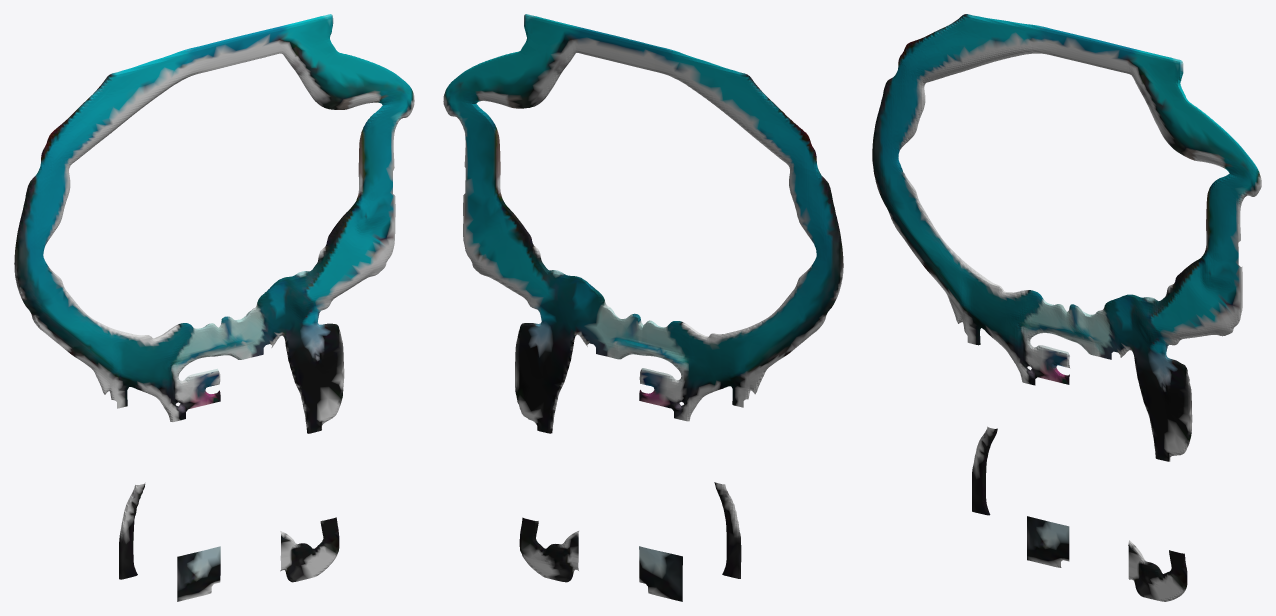
Rendered from tooth_charm.glb.
The picture shows the model from 3 angles, left to right: view 1: azimuth 30°, elevation 25°; view 2: azimuth 150°, elevation 25°; view 3: azimuth 330°, elevation 25°; orthographic projection. The views are drawn at different scales.
Parts seen in each view (by area): view 1: geometry_0; view 2: geometry_0; view 3: geometry_0.
Part boxes in pixels (x1=…): geometry_0: x1=14, y1=14, x2=414, y2=601; geometry_0: x1=443, y1=14, x2=843, y2=601; geometry_0: x1=872, y1=14, x2=1261, y2=601.
Size of the model in its own units: 0.6875 by 0.9186 by 0.0172.
